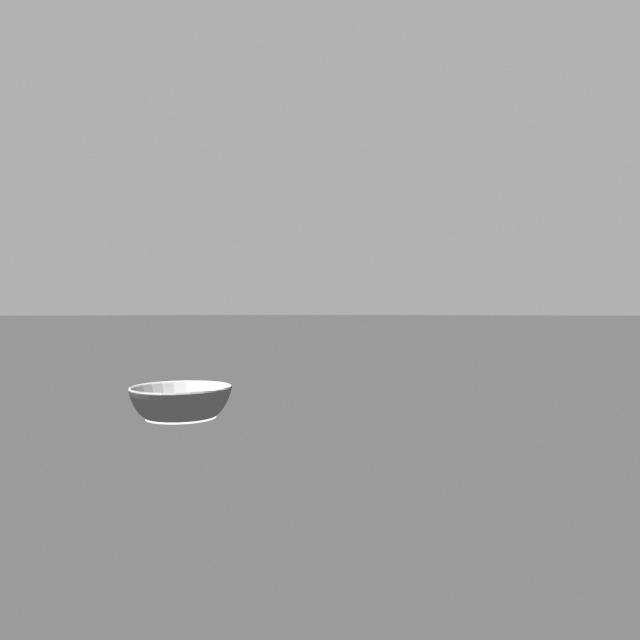bowl: (122, 369, 242, 429)
